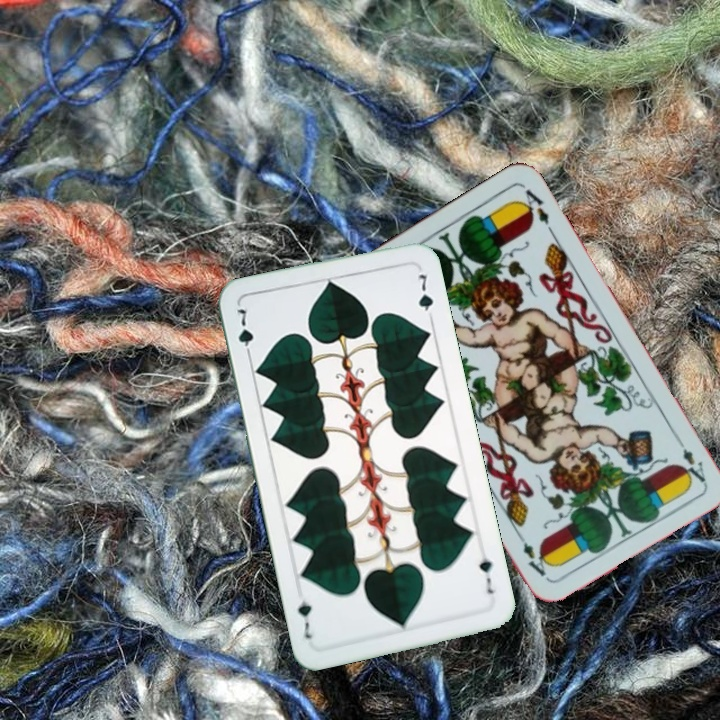EA: (670, 431, 708, 485)
G7: (232, 303, 256, 362), (475, 546, 496, 597)
